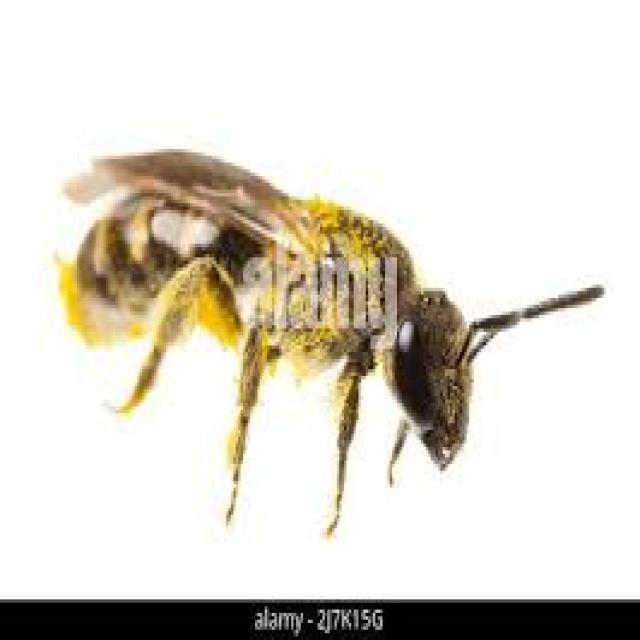Lasioglossum: (41, 122, 601, 533)
